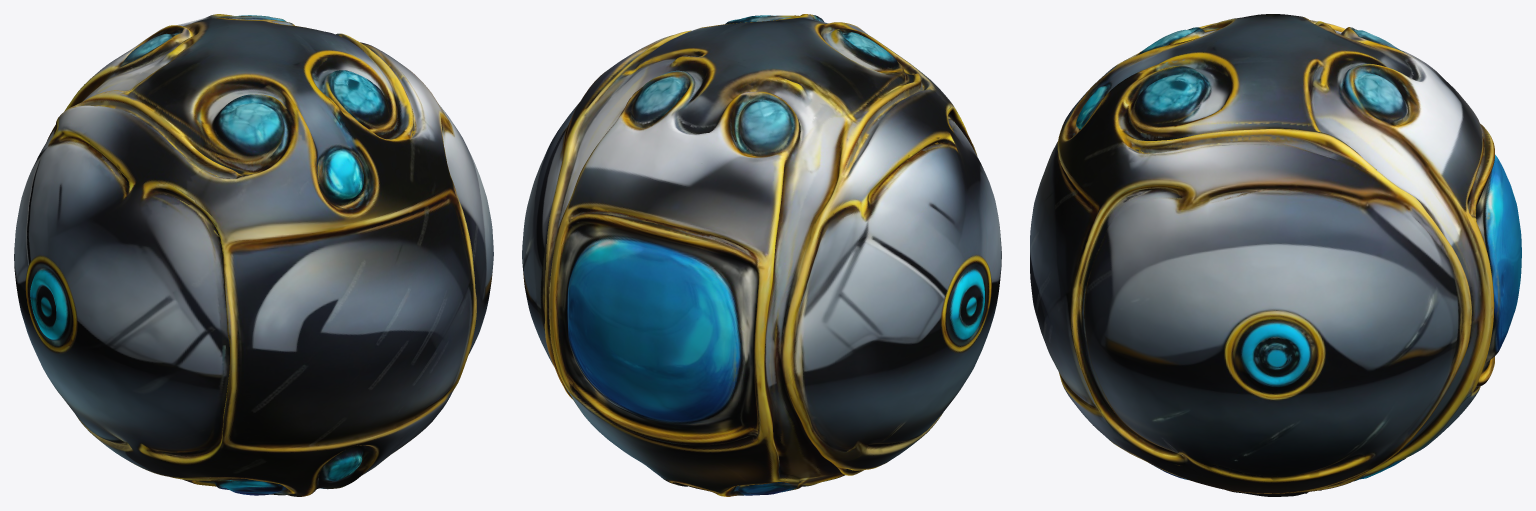
The model's file is testmodel.glb.
3 renders of one model, left to right at view 1: azimuth 30°, elevation 25°; view 2: azimuth 150°, elevation 25°; view 3: azimuth 270°, elevation 25°, orthographic.
Bounding box in the file's own units: 2 × 1.96 × 1.99.
Materials: 1 (1 with a texture image).
